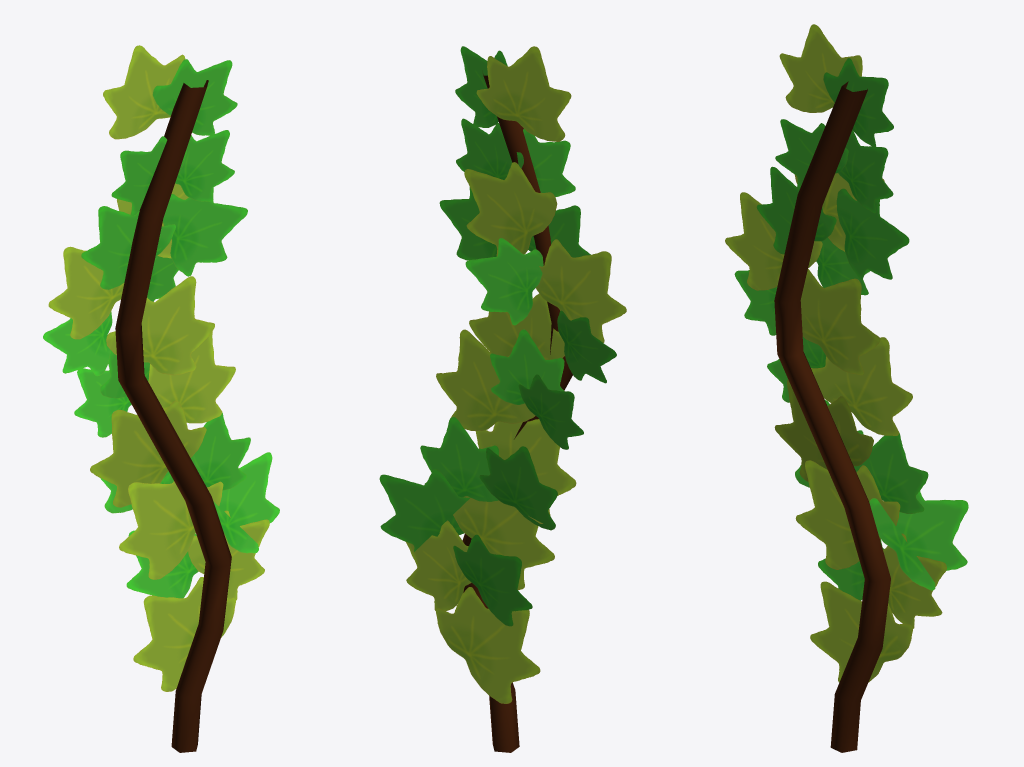
Rendered from M_Ivy.fbx.
3 views of the same model, side by side, from view 1: azimuth 30°, elevation 25°; view 2: azimuth 150°, elevation 25°; view 3: azimuth 330°, elevation 25° (orthographic).
Parts seen in each view (by area): view 1: pPlane31; view 2: pPlane31; view 3: pPlane31.
Boxes of the visible parts, <box> form: pPlane31: <box>43,45,279,752</box>; pPlane31: <box>379,46,626,752</box>; pPlane31: <box>725,24,968,752</box>.
Size of the model in its own units: 3.35 by 7.56 by 0.6086.
